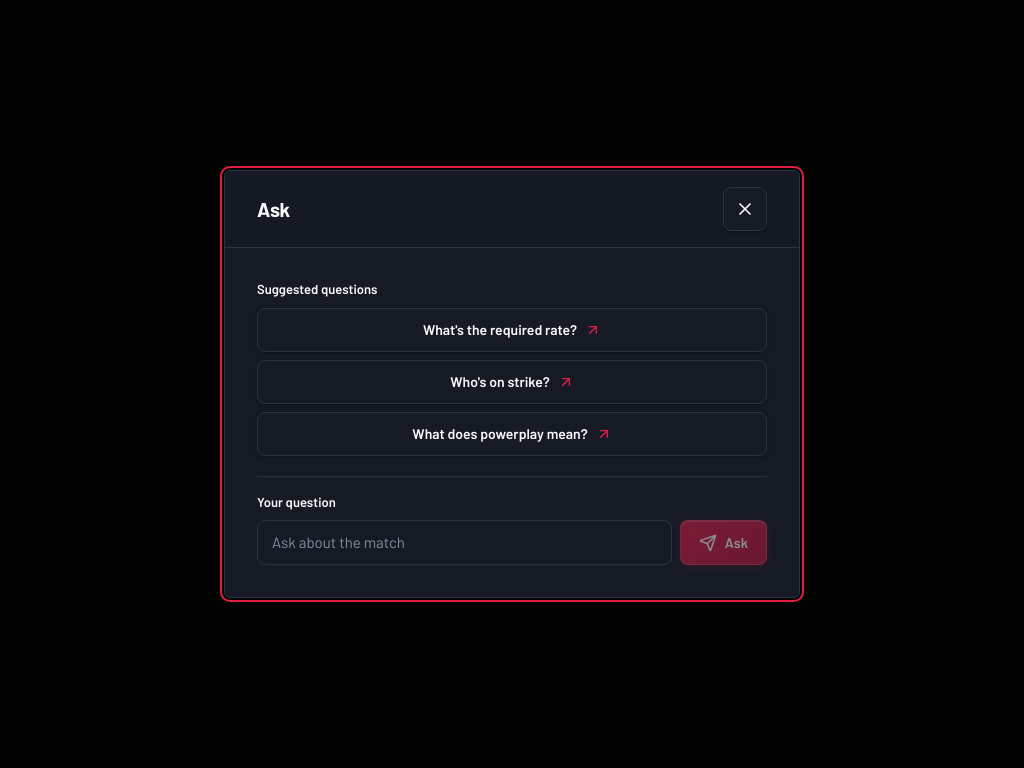
Test case: Frontend submission feedback › keeps the existing question payload and renders a successful answer
What coordinates should you click on to do the following:
click the button "What's the required rate?"
I would click on:
 (512, 330)
Its box is [257,308,767,352].
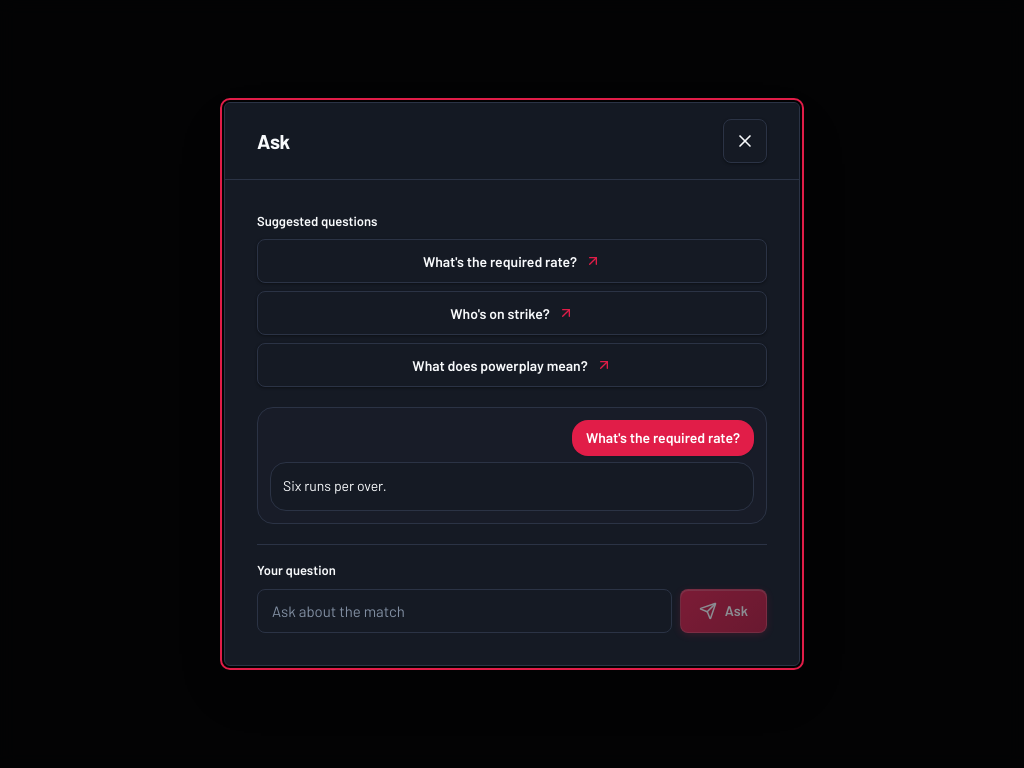
Expected: the text "Six runs per over." is shown, [283,477,387,494]
